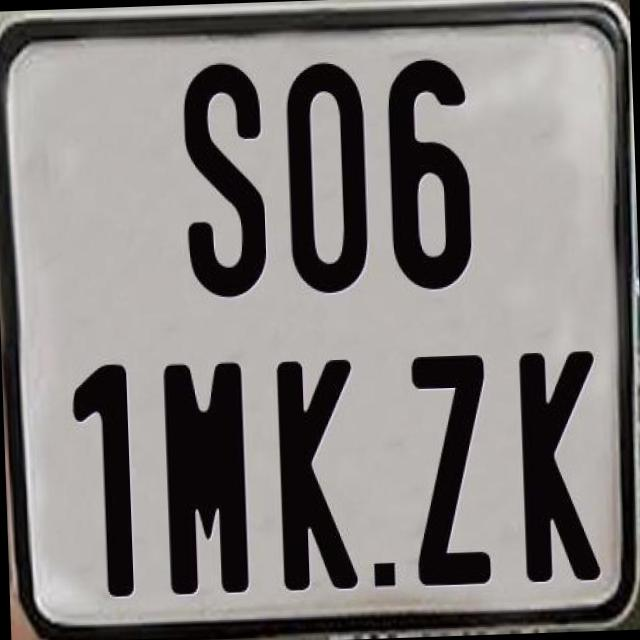0: (282, 57, 372, 292)
1: (68, 362, 134, 597)
6: (382, 57, 472, 295)
K: (276, 355, 362, 587), (515, 350, 599, 586)
M: (160, 361, 248, 599)
S: (182, 61, 272, 306)
Z: (409, 349, 496, 589)
